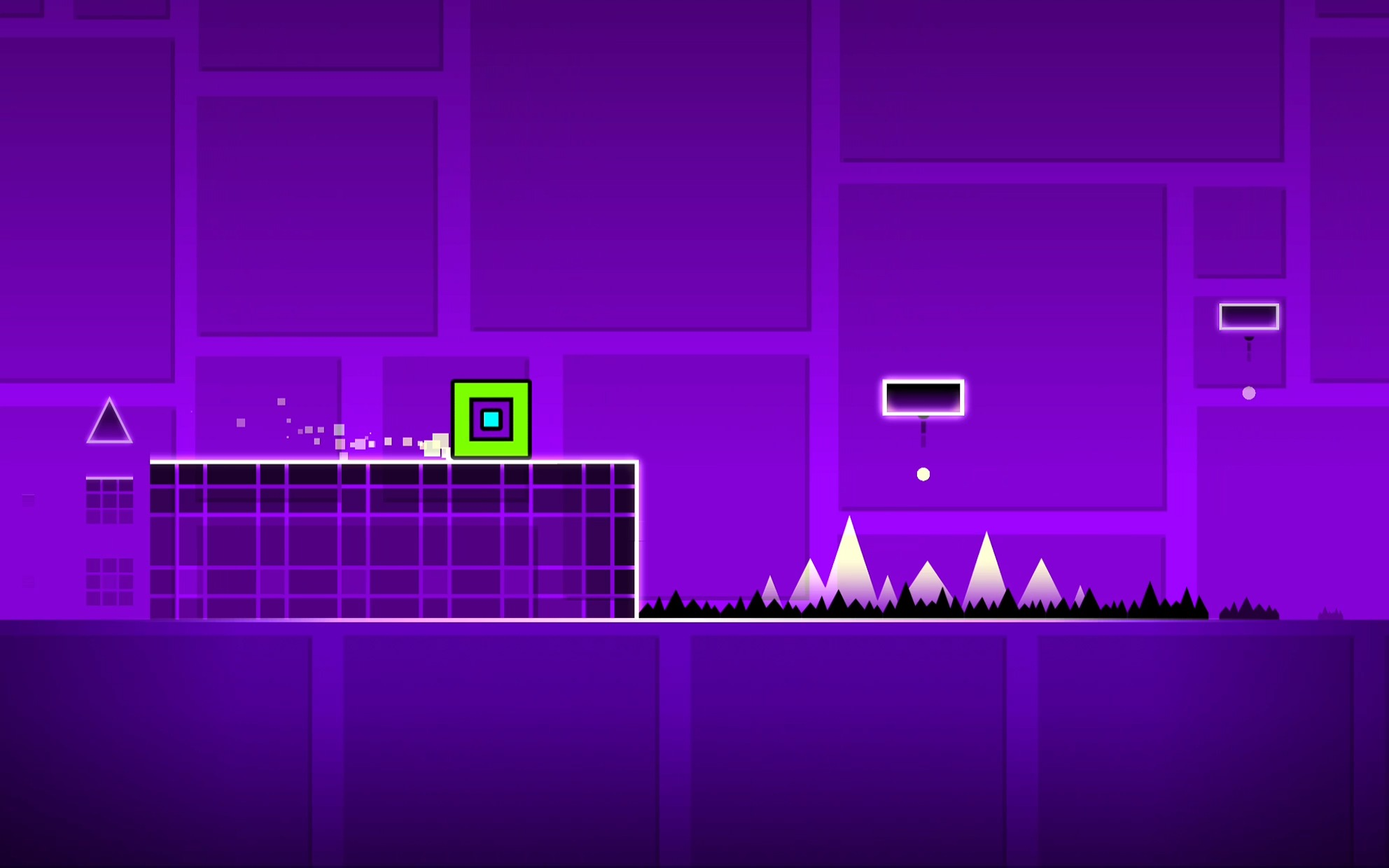Block2: (152, 462, 636, 615)
Block3: (884, 384, 968, 413), (1220, 301, 1280, 328)
Player: (450, 380, 533, 459)
Spike3: (637, 581, 1389, 625)
